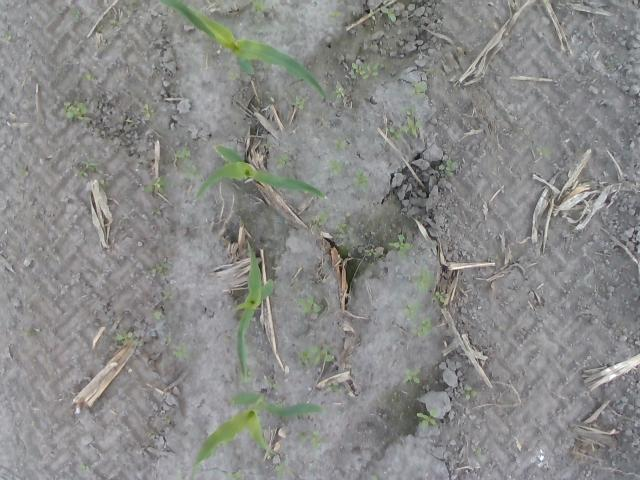Maize: (160, 1, 330, 103), (193, 391, 326, 480), (197, 144, 326, 202), (236, 239, 276, 383)
Weeds: (402, 300, 434, 340), (414, 268, 446, 306), (388, 114, 427, 139), (300, 346, 334, 374), (176, 149, 197, 181), (114, 331, 144, 352), (152, 292, 174, 319), (351, 60, 382, 77), (299, 430, 325, 450), (61, 103, 88, 122), (168, 338, 190, 360), (299, 295, 321, 316), (310, 214, 331, 234), (352, 170, 372, 188), (408, 81, 428, 99), (76, 162, 98, 178), (437, 160, 461, 174), (402, 368, 420, 386), (418, 411, 438, 427), (390, 236, 410, 252), (144, 180, 166, 194), (278, 156, 297, 171), (151, 264, 171, 278), (464, 386, 478, 402), (332, 82, 345, 99), (536, 146, 551, 160), (382, 6, 396, 20), (142, 105, 154, 121), (329, 161, 344, 173), (278, 464, 290, 478), (327, 381, 342, 392), (227, 472, 247, 480), (293, 96, 304, 110), (252, 0, 266, 10), (475, 448, 486, 460), (334, 138, 346, 148), (366, 249, 378, 257)
